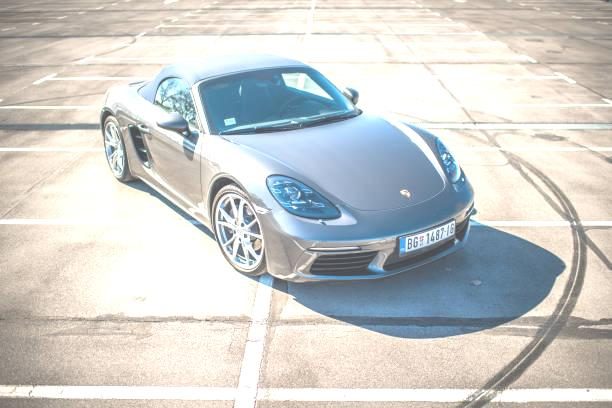porsche: (394, 187, 416, 202)
